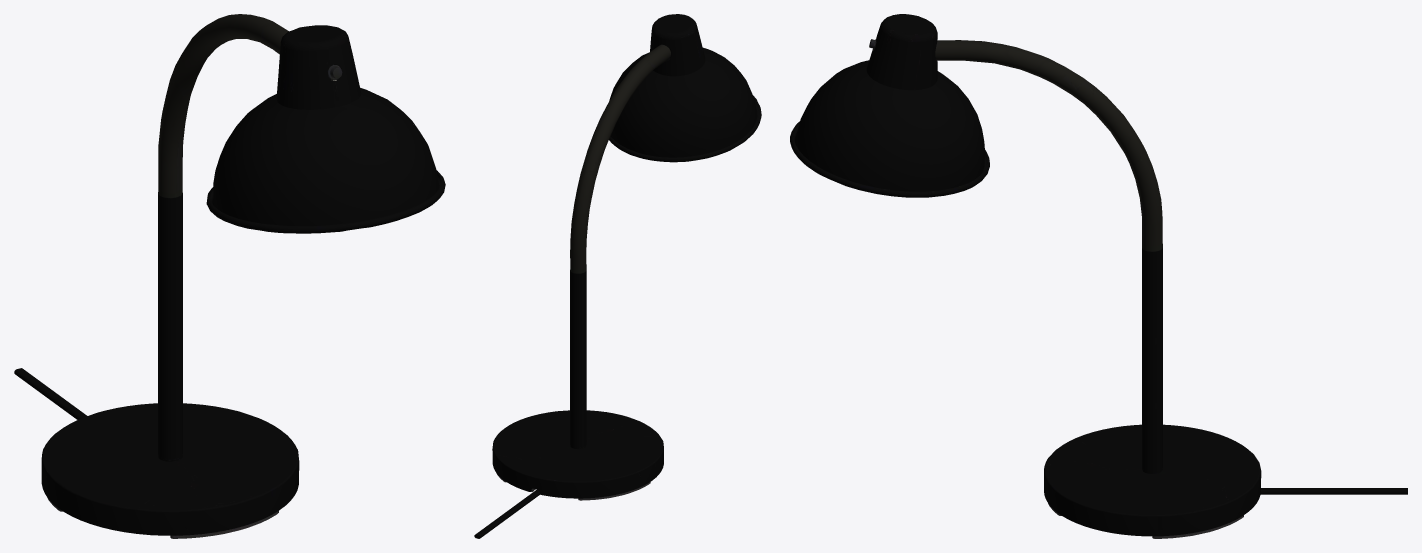
The model's file is skurup_lampa_biurkowa_80516778.glb.
The picture shows the model from 3 angles, left to right: view 1: azimuth 30°, elevation 25°; view 2: azimuth 150°, elevation 25°; view 3: azimuth 270°, elevation 25°; orthographic projection. The views are drawn at different scales.
Visible parts, largest first — view 1: skurup_lampa_biurkowa_80516778; view 2: skurup_lampa_biurkowa_80516778; view 3: skurup_lampa_biurkowa_80516778.
Part boxes in pixels (<box>): skurup_lampa_biurkowa_80516778: <box>14,14,445,538</box>; skurup_lampa_biurkowa_80516778: <box>474,14,761,538</box>; skurup_lampa_biurkowa_80516778: <box>790,14,1407,538</box>.
Bounding box in the file's own units: 0.17 × 0.408 × 0.4837.
1 material, 1 textured.
